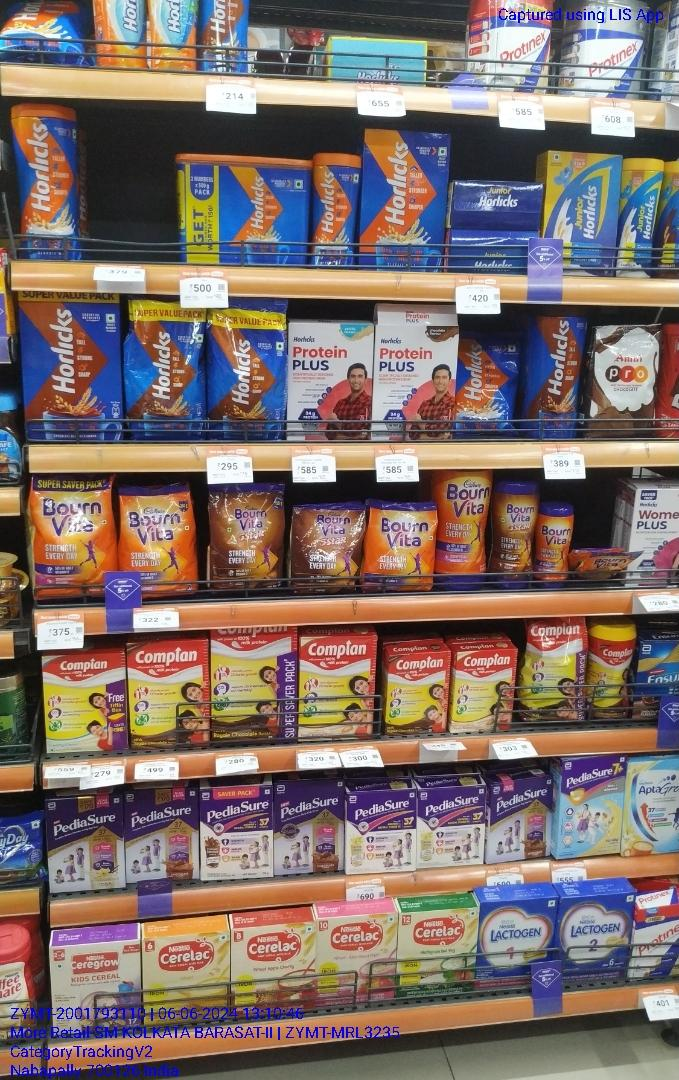BOURN_VITA_1_KG_JAR: (437, 464, 492, 591)
BOURN_VITA_200_G_JAR: (538, 506, 572, 591)
BOURN_VITA_500_G_POUCH: (125, 488, 195, 598), (368, 503, 432, 594)
BOURN_VITA_750_G_POUCH: (34, 491, 112, 602)
BOURN_VITA_FIVE_STAR_MAGIC_500_G_JAR: (210, 483, 282, 592), (496, 480, 533, 594)
COMPLAN_CHOCOLATE_1_KG_PACK: (210, 626, 293, 746)
COMPLAN_CHOCOLATE_200_GMS_JAR: (387, 654, 446, 736)
COMPLAN_CHOCOLATE_500_GMS_JAR: (590, 624, 637, 726)
COMPLAN_CHOCOLATE_500_GMS_PACK: (127, 642, 204, 749)
COMPLAN_CREAMY_CLASSIC_500_G_PACK: (43, 655, 126, 754)
COMPLAN_KESAR_BADAM_200_GMS_PACK: (453, 650, 515, 733)
COMPLAN_KESAR_BADAM_500_GMS_PACK: (300, 636, 372, 742)
COMPLAN_RC_POUCH_700_GMS_12: (521, 619, 582, 727)
HORLICKS_JUNIOR_VANILLA_500_GM_JAR: (624, 157, 667, 282)
HORLICK_CHOCOLATE_1_KG_PACK: (21, 288, 118, 443)
HORLICK_CHOCOLATE_500_G_JAR: (522, 305, 581, 439)
HORLICK_CLASSIC_MALT_200_G_JAR: (314, 148, 358, 272)
HORLICK_CLASSIC_MALT_500_G_JAR: (11, 102, 79, 260)
HORLICK_CLASSIC_MALT_500_G_PACK: (363, 131, 447, 272)
HORLICK_CLASSIC_MALT_750_G_POUCH: (128, 296, 202, 444), (209, 296, 283, 442)
HORLICK_MALT_1_KG_CONTAINER: (179, 153, 308, 264)
PEDIASURE_CHOCOLATE_500_G_PACK: (125, 789, 197, 882), (274, 783, 342, 874), (492, 783, 550, 861)
PEDIASURE_VANILLA_500_G_PACK: (47, 796, 120, 891)
